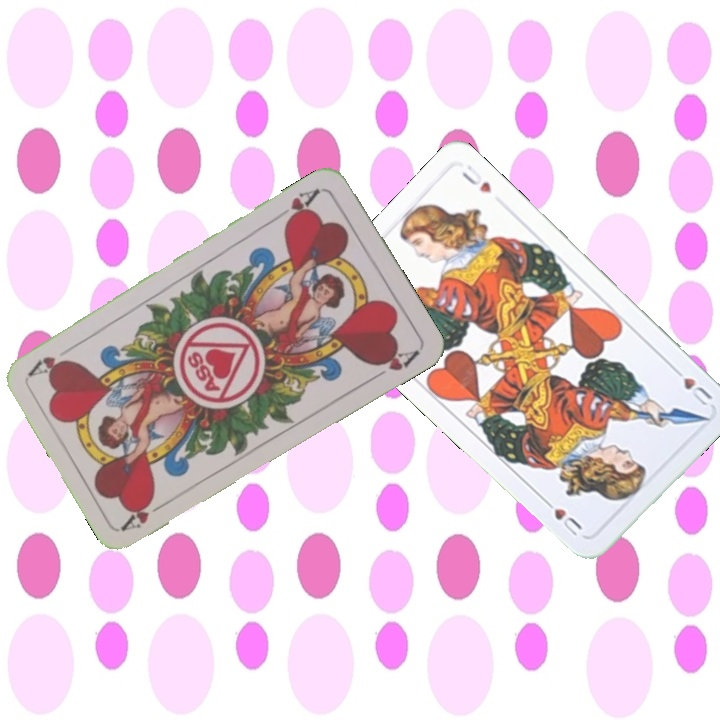HA: (118, 492, 173, 534), (272, 183, 323, 228)
HU: (667, 361, 716, 409)
